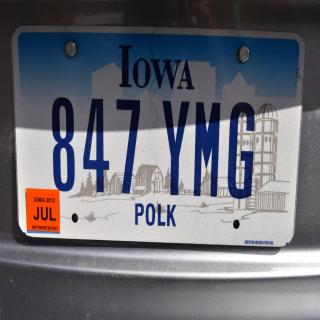license: (12, 26, 307, 250)
